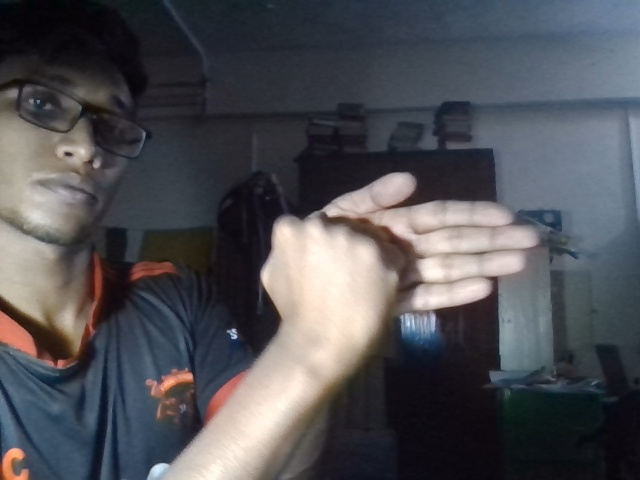b: (247, 162, 549, 364)
